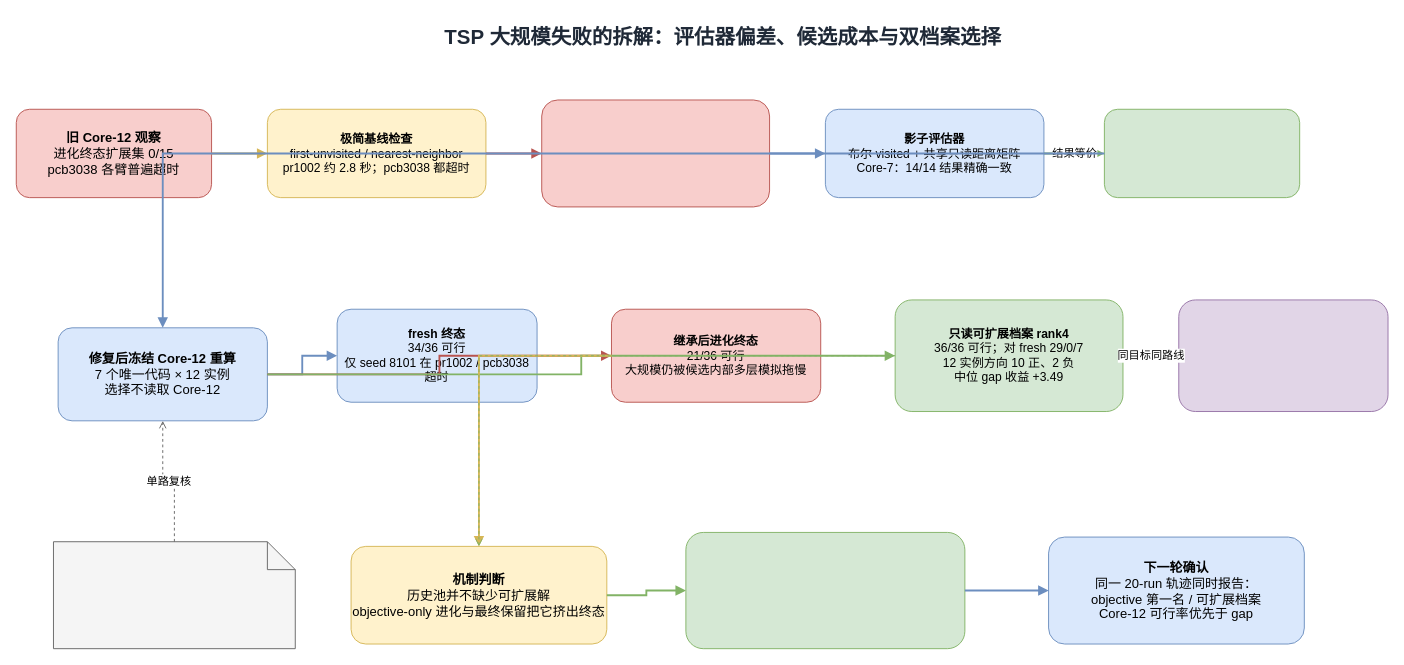
The diagram is 1404 pixels wide and 665 high, and some of its shapes have lost their labels. Here are the shapes that lost their labels. From the top down, the centre of each, then its label:
(x=655, y=153): 评估器共同成本 每步线性扫描 route 每步复制完整 n×n 距离矩阵 候选还没运行完，评估器先耗尽 30 秒
(x=1201, y=153): 正式修复并推送 commit 9e3c63f 429 passed，1 skipped
(x=1283, y=355): 同质量实现对照 rank3 循环与 rank4 向量化 Core-12 gap 完全一致 pcb3038：rank4 快 4.6×
(x=174, y=595): 测量规则修正 4 并发失败中 3 个被串行复核恢复 临界运行时间必须单路复核 不能把资源争用写成算法失败
(x=825, y=590): 双档案选择 质量档案：保留训练最优 可扩展档案：保留通过大规模门槛的轻量同质解 两者都从同一冻结池读取
